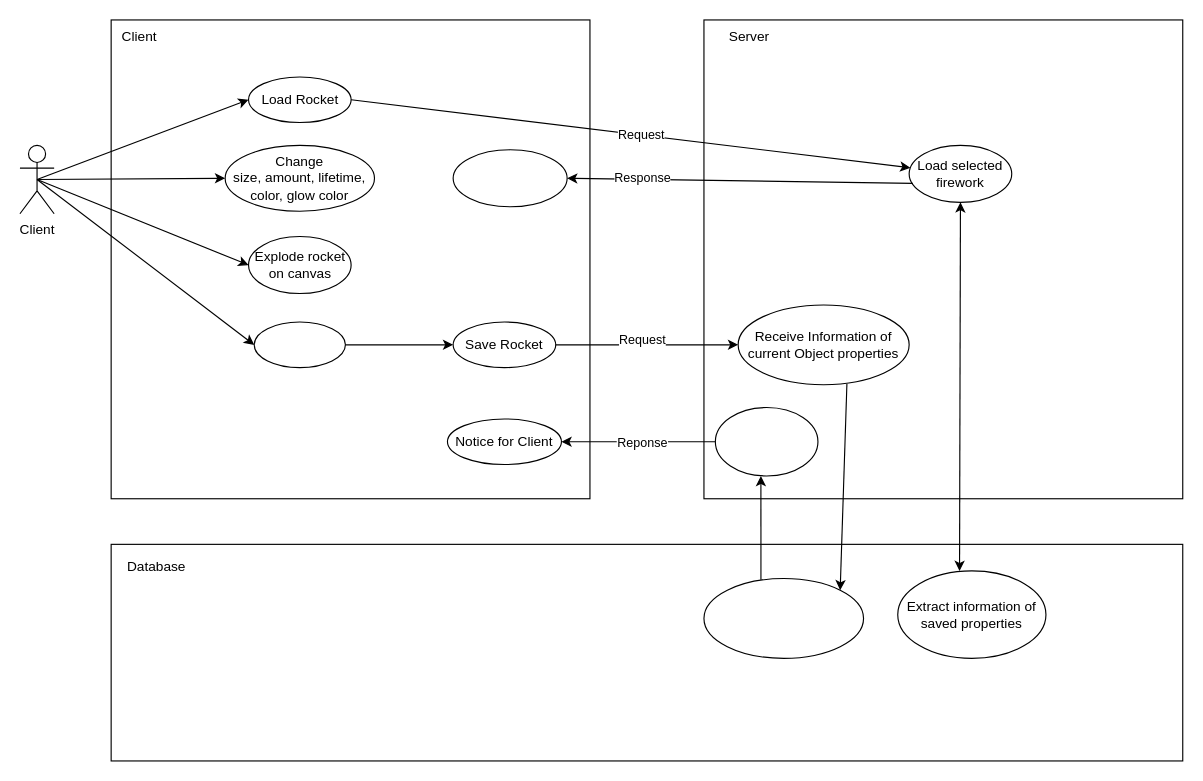
Image size: 1203x781. Some labels were removed from this diagram. The shapes that lost their labels are listed below. From the top down, each one's centre as x and y in pixels, then its label:
(x=509, y=178): Change input values
(x=299, y=344): Input rocket name
(x=766, y=441): Notice of saved content
(x=783, y=617): Insert Information in Collection of Database
